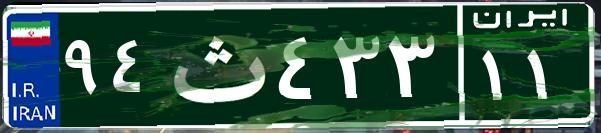1: (475, 38, 525, 113), (525, 38, 570, 115)
3: (385, 28, 445, 110), (330, 28, 385, 110)
4: (273, 28, 330, 110), (110, 28, 158, 105)
9: (57, 26, 110, 107)
ث: (158, 15, 273, 115)
